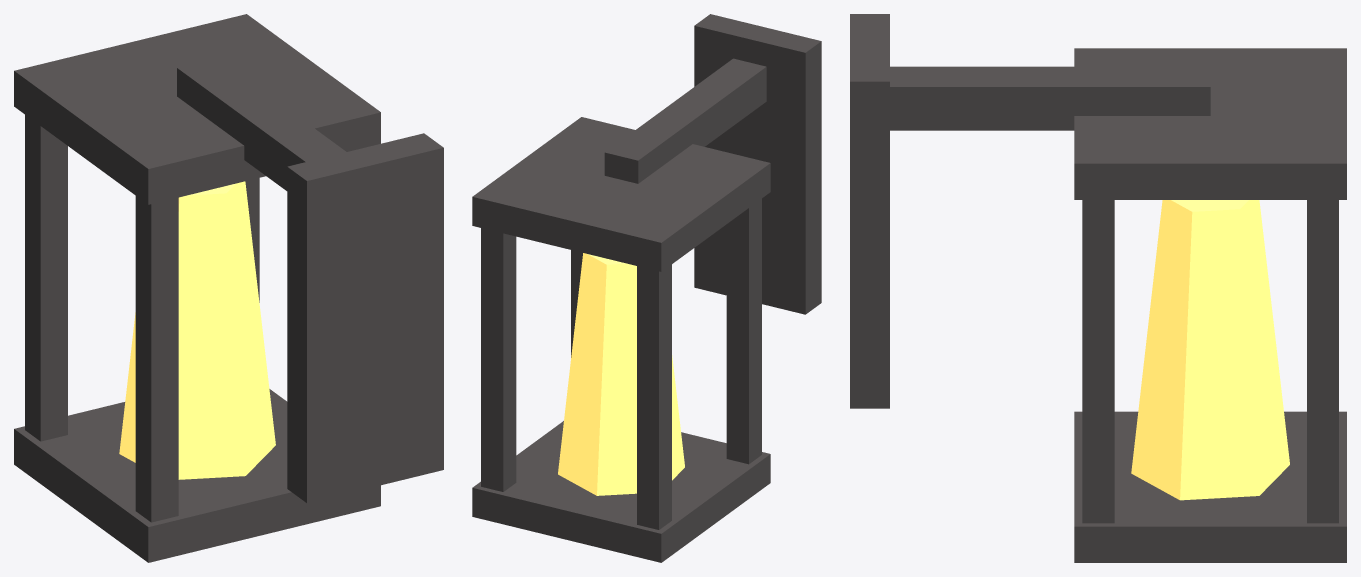
The model's file is forge_lantern.glb.
The picture shows the model from 3 angles, left to right: view 1: azimuth 30°, elevation 25°; view 2: azimuth 150°, elevation 25°; view 3: azimuth 270°, elevation 25°; orthographic projection. The views are drawn at different scales.
Visible parts, largest first — view 1: forge_lantern; view 2: forge_lantern; view 3: forge_lantern.
Boxes of the visible parts, x1,y1,x2,y2 form: forge_lantern: (14,14,443,562); forge_lantern: (472,14,821,562); forge_lantern: (850,14,1346,562).
Bounding box in the file's own units: 0.34 × 0.63 × 0.62.
